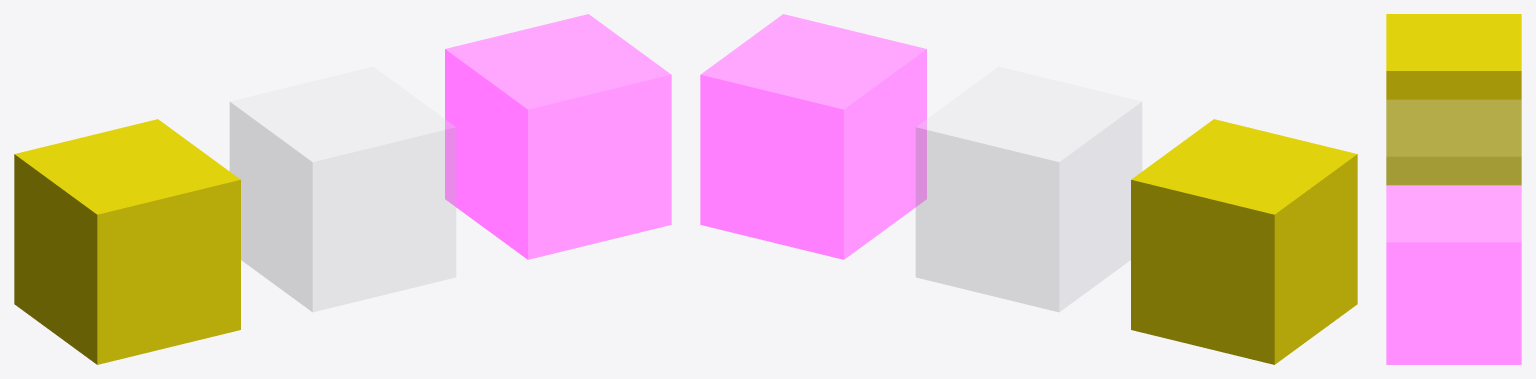
The model's file is test_shapes.gltf.
3 views of the same model, side by side, from view 1: azimuth 30°, elevation 25°; view 2: azimuth 150°, elevation 25°; view 3: azimuth 270°, elevation 25° (orthographic). The views are drawn at different scales.
Parts seen in each view (by area): view 1: Node_GoldCube, Node_EmissiveCube, Node_GlassCube; view 2: Node_GoldCube, Node_EmissiveCube, Node_GlassCube; view 3: Node_EmissiveCube, Node_GoldCube, Node_GlassCube.
Boxes of the visible parts, <box> form: Node_GoldCube: <box>14,119,240,364</box>; Node_EmissiveCube: <box>445,14,671,259</box>; Node_GlassCube: <box>230,67,455,311</box>; Node_GoldCube: <box>1131,119,1357,364</box>; Node_EmissiveCube: <box>700,14,926,259</box>; Node_GlassCube: <box>916,67,1141,311</box>; Node_EmissiveCube: <box>1386,185,1521,364</box>; Node_GoldCube: <box>1386,14,1521,185</box>; Node_GlassCube: <box>1386,100,1521,184</box>.
Size of what is drawn, in the model's own units: 4 by 1 by 1.
